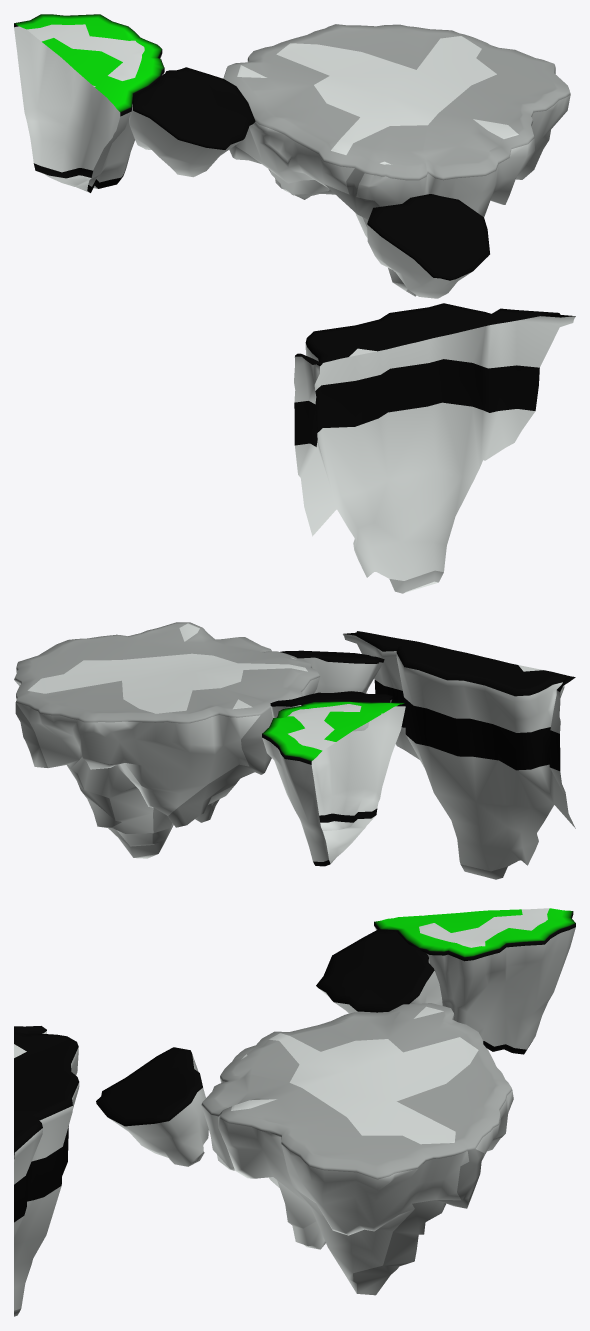
3 renders of one model, top to bottom at view 1: azimuth 30°, elevation 25°; view 2: azimuth 150°, elevation 25°; view 3: azimuth 270°, elevation 25°, orthographic. The views are drawn at different scales.
Parts seen in each view (by area): view 1: G:\FFXIV-MapTools\exports\u5f2\bg\ex4\04_uvs_u5\fld\u5f2\bgp (×7); view 2: G:\FFXIV-MapTools\exports\u5f2\bg\ex4\04_uvs_u5\fld\u5f2\bgp (×7); view 3: G:\FFXIV-MapTools\exports\u5f2\bg\ex4\04_uvs_u5\fld\u5f2\bgp (×7).
Boxes of the visible parts, left/top/right/bottom form: G:\FFXIV-MapTools\exports\u5f2\bg\ex4\04_uvs_u5\fld\u5f2\bgp (×7): left=14, top=14, right=575, bottom=593; G:\FFXIV-MapTools\exports\u5f2\bg\ex4\04_uvs_u5\fld\u5f2\bgp (×7): left=14, top=622, right=575, bottom=879; G:\FFXIV-MapTools\exports\u5f2\bg\ex4\04_uvs_u5\fld\u5f2\bgp (×7): left=14, top=908, right=575, bottom=1316.
Bounding box in the file's own units: 65.8 × 54.39 × 78.23.
